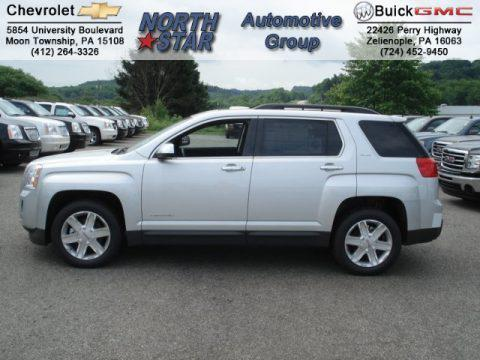Car: (17, 102, 451, 291)
